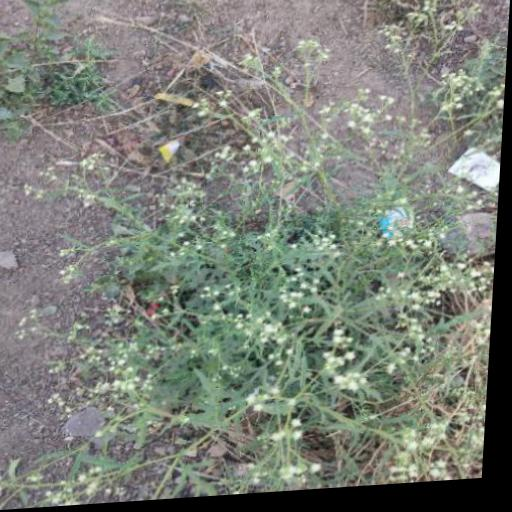weed: (82, 171, 488, 506)
